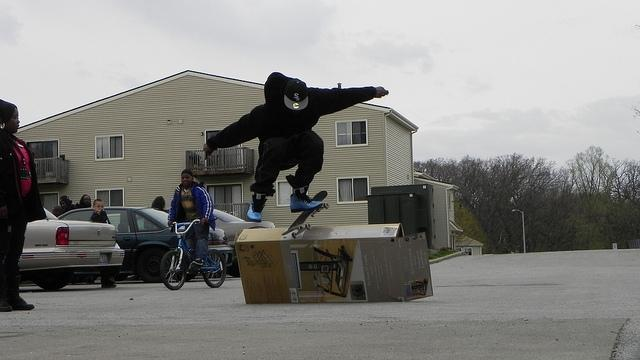bicycle: (160, 220, 228, 292)
car: (20, 204, 128, 290), (60, 207, 173, 277), (208, 209, 277, 265)
